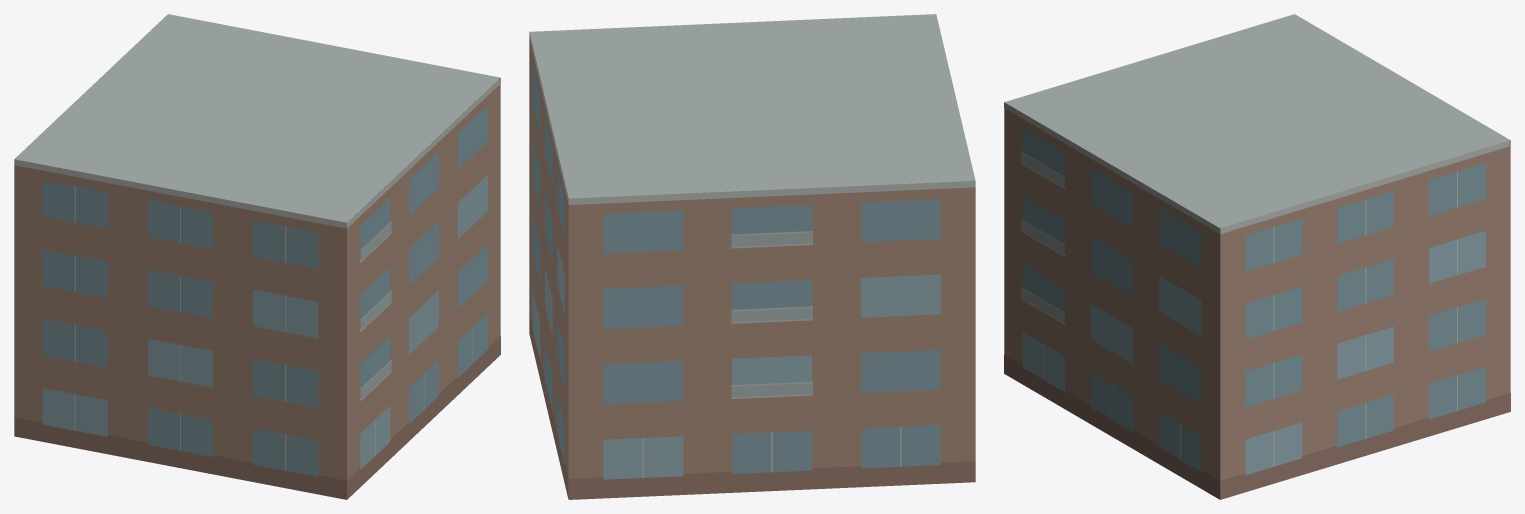
Rendered from survey-upis-32802900.glb.
3 views of the same model, side by side, from view 1: azimuth 30°, elevation 25°; view 2: azimuth 150°, elevation 25°; view 3: azimuth 270°, elevation 25° (orthographic). The views are drawn at different scales.
Visible parts, largest first — view 1: survey-upis-32802900.tmp; view 2: survey-upis-32802900.tmp; view 3: survey-upis-32802900.tmp.
Boxes of the visible parts, left/top/right/bottom form: survey-upis-32802900.tmp: left=14, top=14, right=500, bottom=499; survey-upis-32802900.tmp: left=529, top=14, right=975, bottom=499; survey-upis-32802900.tmp: left=1004, top=14, right=1510, bottom=499.
Size of the model in its own units: 19.32 by 11.4 by 19.29.
